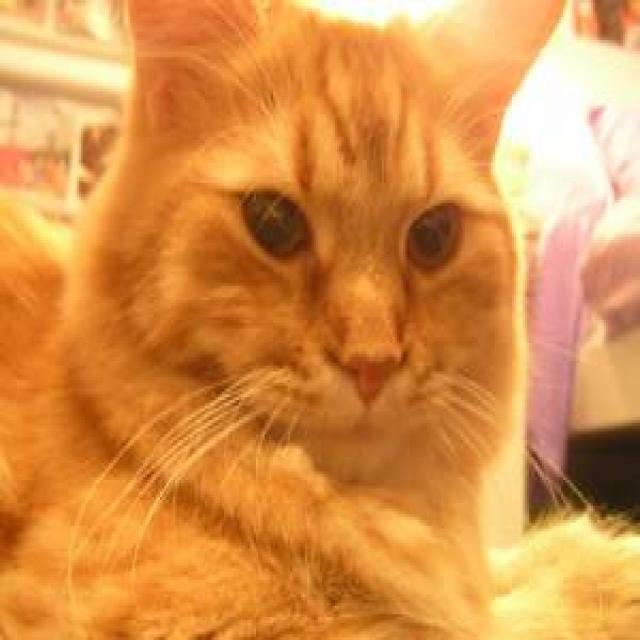Maine_Coon: (62, 1, 568, 499)
